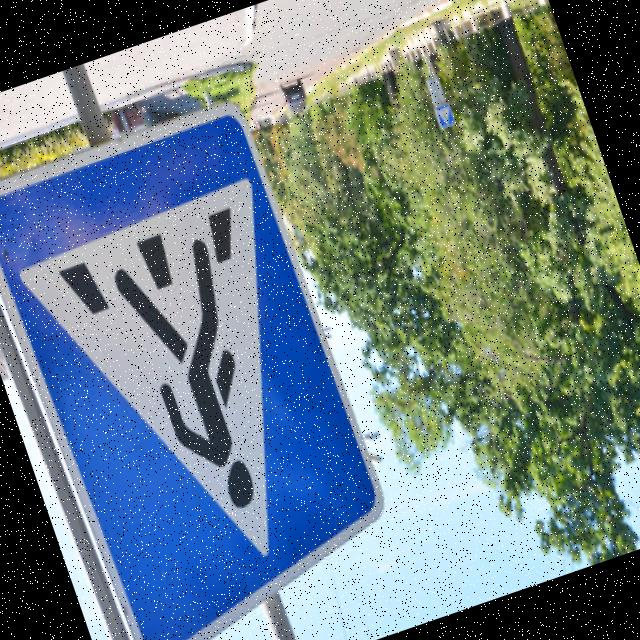crosswalk: (0, 67, 439, 640)
